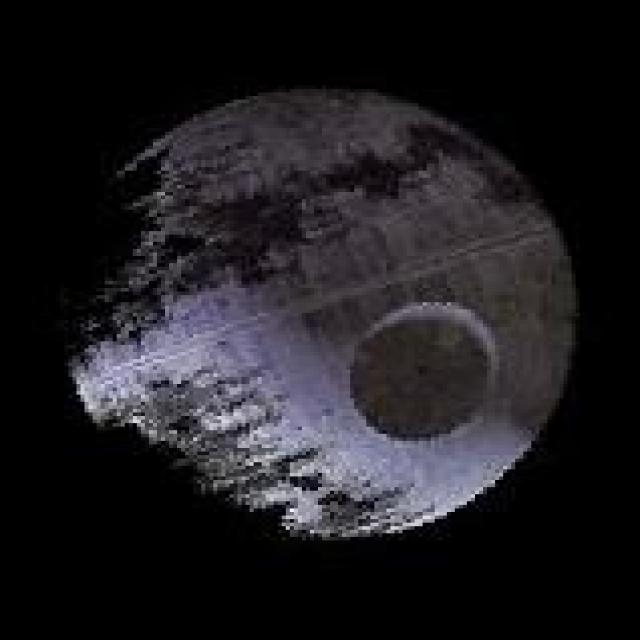Death Star: (56, 78, 588, 544)
